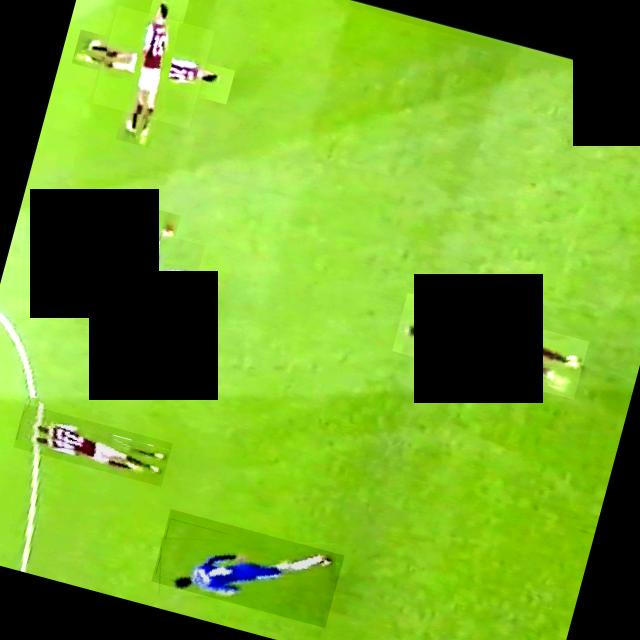soccer-player: (150, 508, 343, 628), (390, 292, 588, 399), (72, 218, 203, 350), (90, 5, 214, 128), (12, 403, 171, 486)
